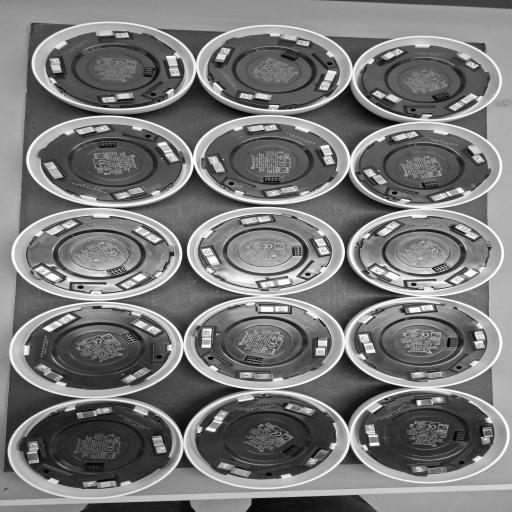konnektor: (82, 460, 109, 472), (280, 444, 302, 457), (452, 430, 471, 444), (243, 355, 267, 366), (120, 332, 142, 344), (104, 265, 128, 276), (279, 52, 305, 62), (288, 244, 306, 258), (430, 262, 452, 273), (432, 90, 452, 102), (444, 336, 462, 349), (142, 64, 158, 78), (259, 175, 285, 183), (94, 140, 120, 148), (422, 180, 442, 188)
yaysiz: (199, 410, 232, 436), (38, 314, 78, 334), (33, 363, 69, 385), (199, 245, 229, 270), (150, 141, 182, 163), (450, 49, 483, 70), (70, 405, 116, 420), (219, 461, 257, 479), (33, 265, 67, 285), (129, 224, 163, 244), (233, 213, 278, 228), (310, 142, 338, 166), (44, 219, 79, 238), (277, 402, 318, 418), (368, 88, 404, 106), (361, 423, 385, 450), (122, 365, 156, 384), (303, 446, 332, 468), (361, 167, 391, 188), (125, 317, 162, 334), (462, 142, 488, 166), (80, 474, 124, 488), (370, 265, 404, 283), (448, 92, 480, 111), (112, 185, 150, 201), (121, 270, 153, 289), (307, 233, 332, 257), (26, 439, 46, 469), (162, 52, 185, 78), (146, 431, 172, 454), (431, 186, 468, 202), (450, 266, 481, 285), (316, 68, 340, 92), (356, 332, 380, 356), (271, 33, 312, 47), (99, 90, 140, 104), (374, 220, 404, 239), (384, 130, 424, 144), (41, 161, 67, 182), (257, 276, 299, 289), (236, 91, 277, 104), (252, 302, 293, 315), (199, 326, 221, 350), (451, 223, 482, 240), (73, 124, 112, 137), (264, 185, 303, 198), (88, 29, 134, 40), (400, 303, 438, 316), (237, 369, 278, 381), (408, 368, 449, 380), (46, 56, 68, 78), (242, 123, 282, 135), (407, 396, 447, 408), (378, 47, 407, 63), (207, 154, 230, 174), (212, 46, 234, 66), (313, 334, 331, 358), (409, 463, 452, 473), (469, 328, 487, 350), (478, 424, 495, 447)
